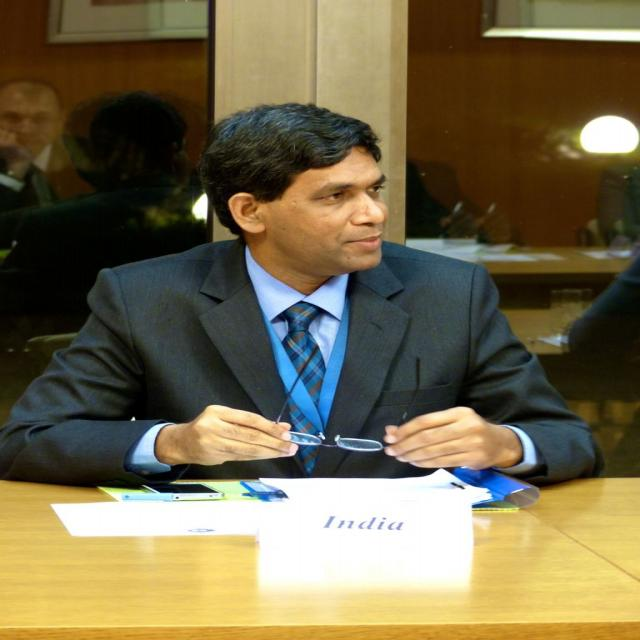desk: (0, 477, 639, 639)
person: (9, 102, 595, 490), (1, 91, 206, 335), (0, 80, 94, 213)
